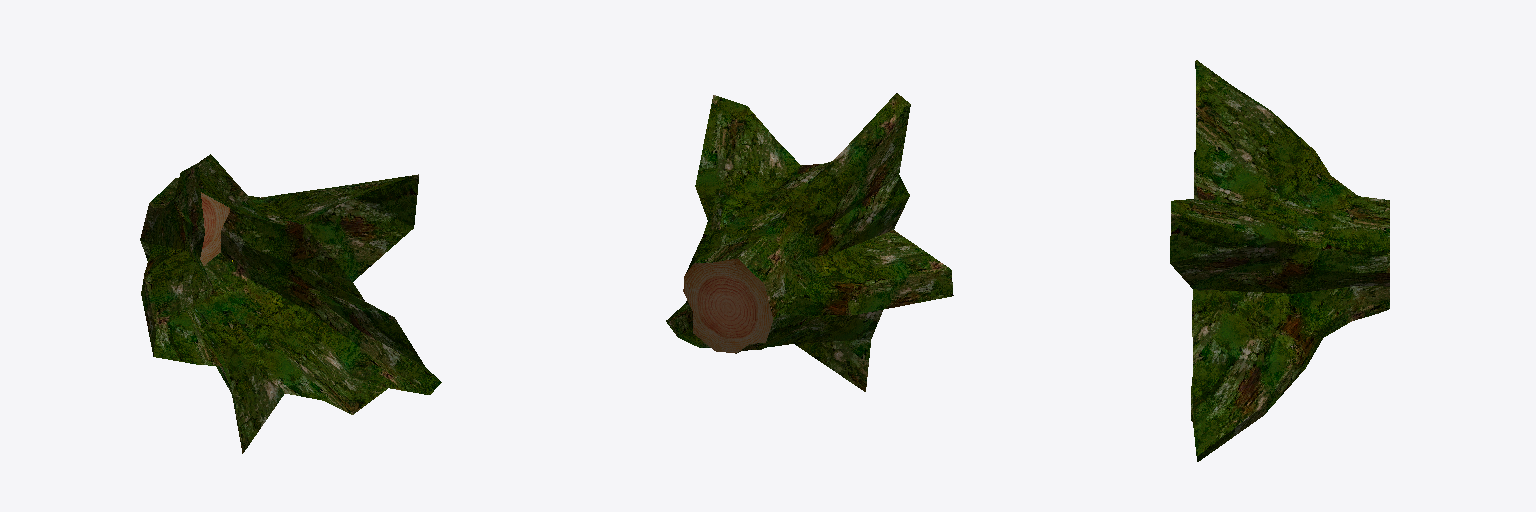
3 renders of one model, left to right at view 1: azimuth 30°, elevation 25°; view 2: azimuth 150°, elevation 25°; view 3: azimuth 270°, elevation 25°, orthographic.
Visible parts, largest first — view 1: WoodTest1__Mt_Tree_Stump, SectionStump__Mt_TreeSection_Stump; view 2: WoodTest1__Mt_Tree_Stump, SectionStump__Mt_TreeSection_Stump, SectionTrunk__Mt_TreeSection_Trunk; view 3: WoodTest1__Mt_Tree_Stump.
Part boxes in pixels (x1,y1,x2,y2): WoodTest1__Mt_Tree_Stump: (140,154,441,453); SectionStump__Mt_TreeSection_Stump: (200,192,229,265); WoodTest1__Mt_Tree_Stump: (666,93,953,391); SectionStump__Mt_TreeSection_Stump: (683,258,772,352); SectionTrunk__Mt_TreeSection_Trunk: (684,259,772,353); WoodTest1__Mt_Tree_Stump: (1170,60,1389,461).
Size of the model in its own units: 4.23 by 4.32 by 2.8.
Materials: 4 (2 with a texture image).